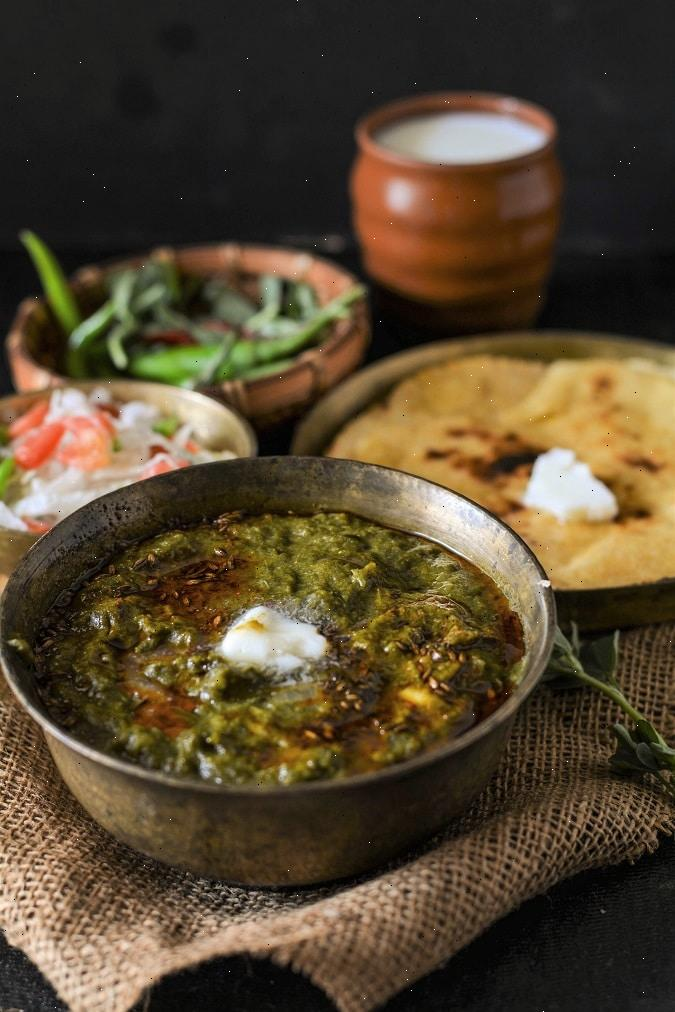saag: (34, 508, 514, 789)
